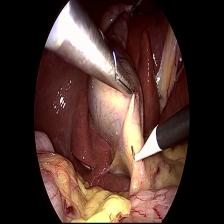Grasper: (107, 41, 139, 110)
Hook: (127, 125, 162, 166)
